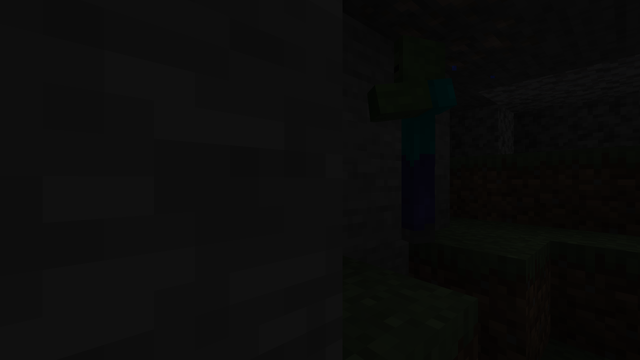zombies: (392, 33, 436, 247)
